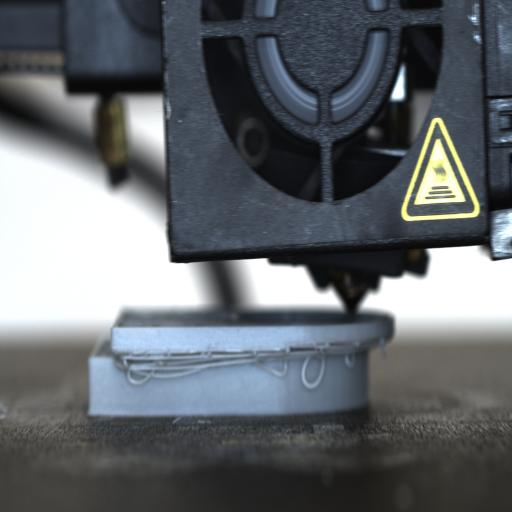layer_shift: (89, 339, 397, 362)
